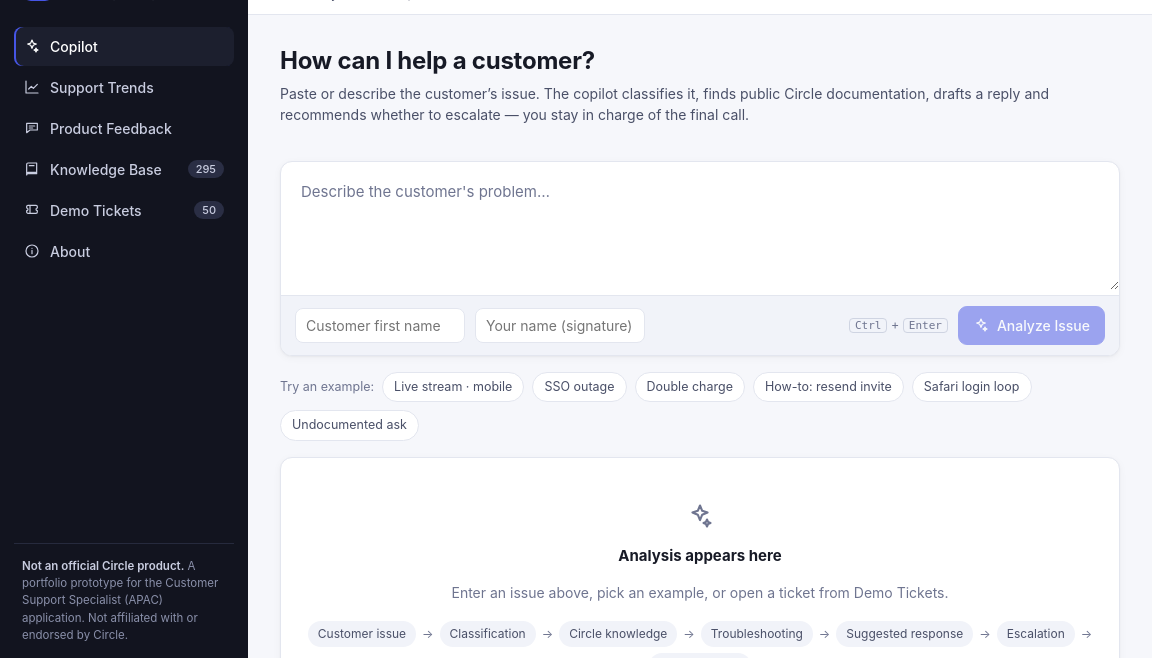
Copilot provenance labels › labels knowledge as fact, everything generated as recommendation, and requires human review
Click the button "Live stream · mobile" at point(453, 387), box [382,372,524,402]
(page scrolled)
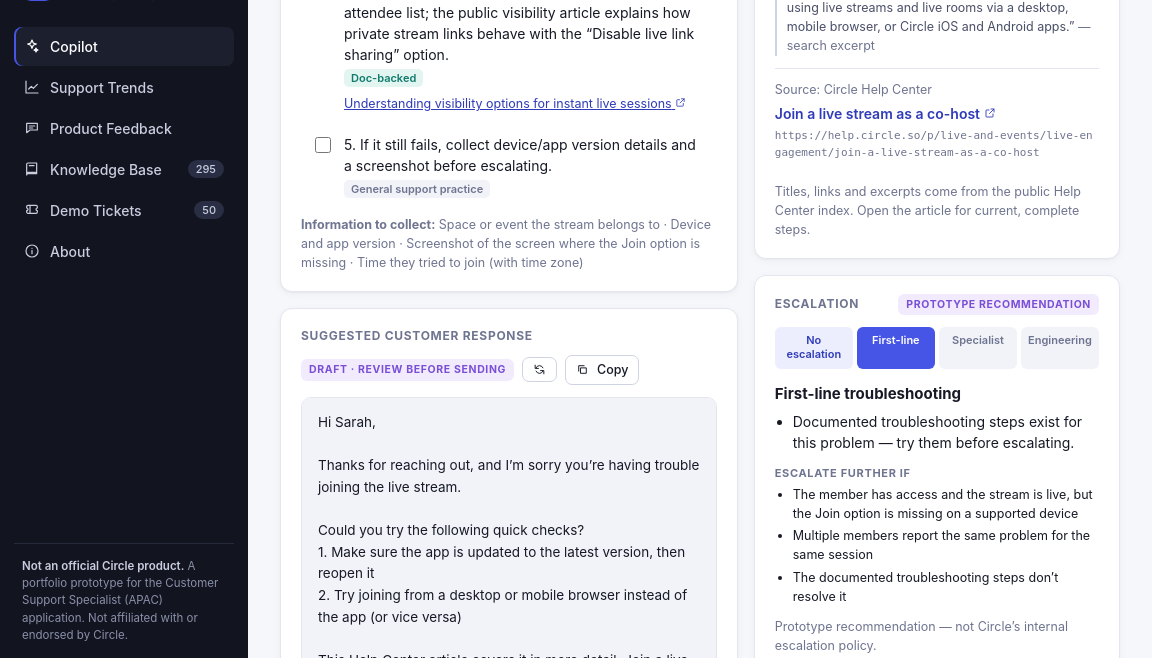
Expected: the text "Prototype recommendation — not Circle’s internal escalation policy" is shown, [775,619,1068,653]
Expected: the text "Draft · review before sending" is shown, [301,359,514,381]
Expected: the text "Prototype recommendation" is shown, [898,294,1099,315]
